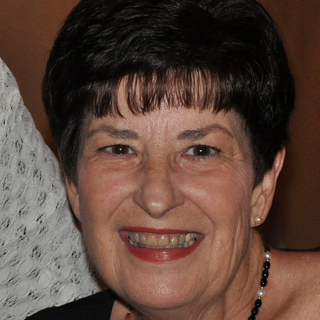eye: (88, 136, 147, 164), (172, 139, 228, 164)
